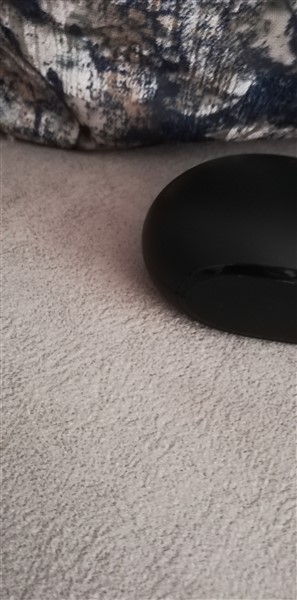mouse: (132, 144, 297, 356)
